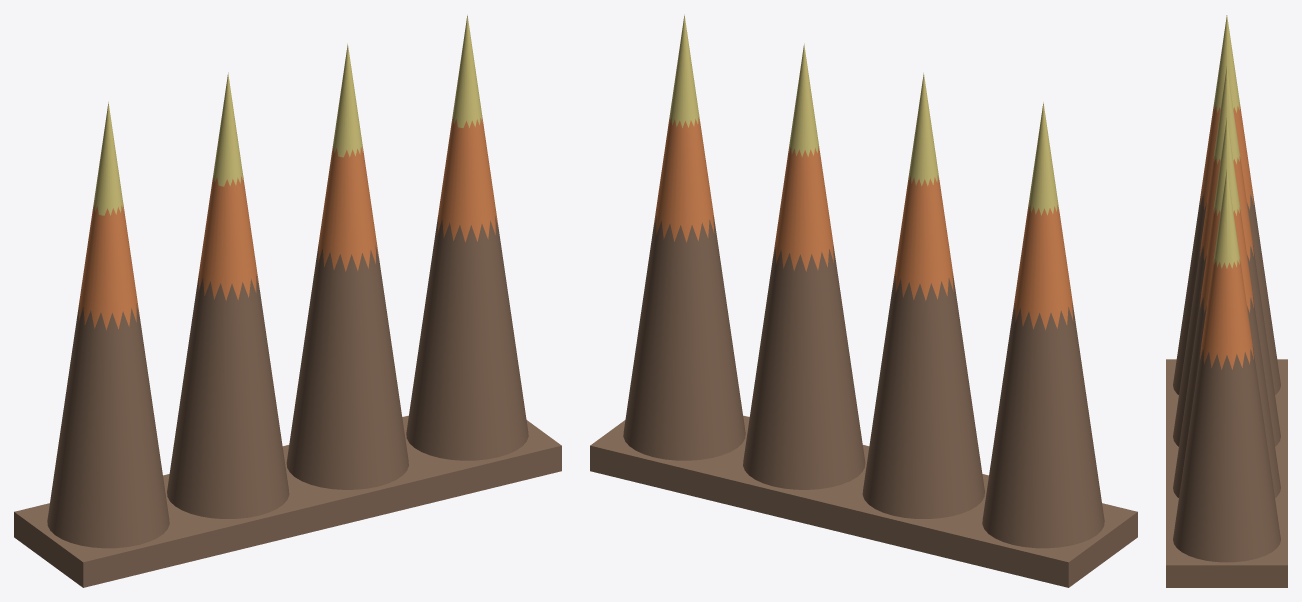
File: spikes1.fbx
3 renders of one model, left to right at view 1: azimuth 30°, elevation 25°; view 2: azimuth 150°, elevation 25°; view 3: azimuth 270°, elevation 25°, orthographic. The views are drawn at different scales.
Parts seen in each view (by area): view 1: Cylinder; view 2: Cylinder; view 3: Cylinder.
Boxes of the visible parts, x1,y1,x2,y2 form: Cylinder: (14, 14, 561, 587); Cylinder: (590, 14, 1137, 587); Cylinder: (1166, 15, 1287, 587).
Bounding box in the file's own units: 232 × 207 × 58.03.
